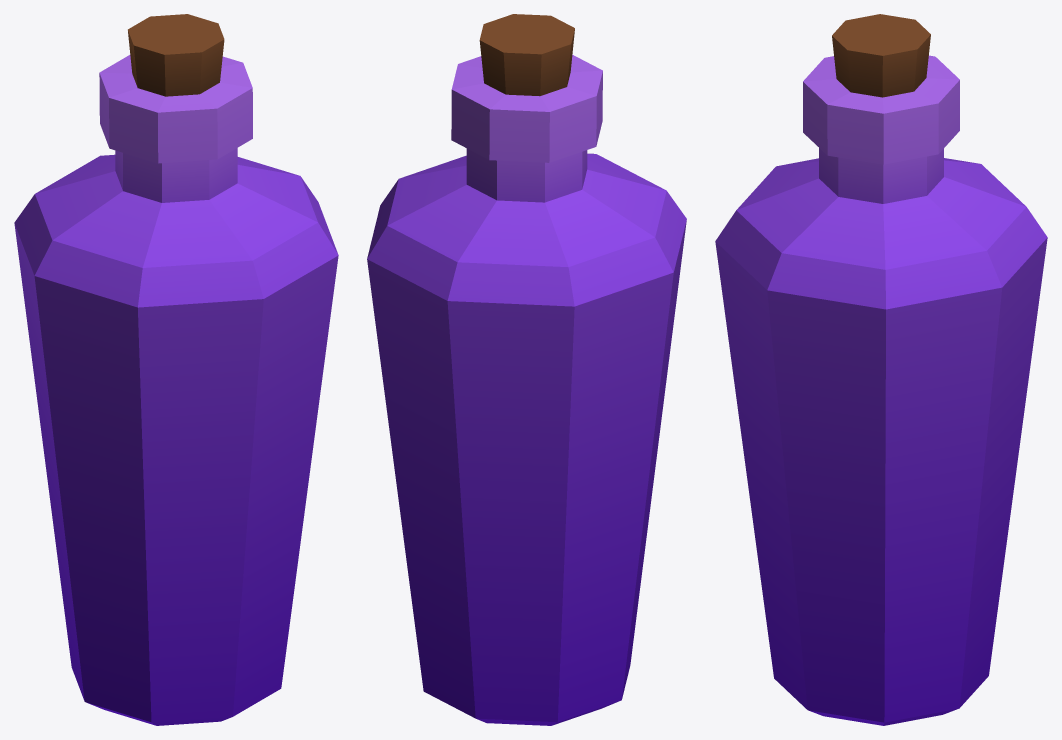
Rendered from potion_008_purple.fbx.
The picture shows the model from 3 angles, left to right: view 1: azimuth 30°, elevation 25°; view 2: azimuth 150°, elevation 25°; view 3: azimuth 270°, elevation 25°; orthographic projection.
Visible parts, largest first — view 1: potion_008_purple; view 2: potion_008_purple; view 3: potion_008_purple.
Part boxes in pixels (x1,y1,x2,y2): potion_008_purple: (14, 14, 338, 725); potion_008_purple: (367, 14, 686, 725); potion_008_purple: (715, 14, 1047, 725).
Bounding box in the file's own units: 0.1938 × 0.4215 × 0.1938.
